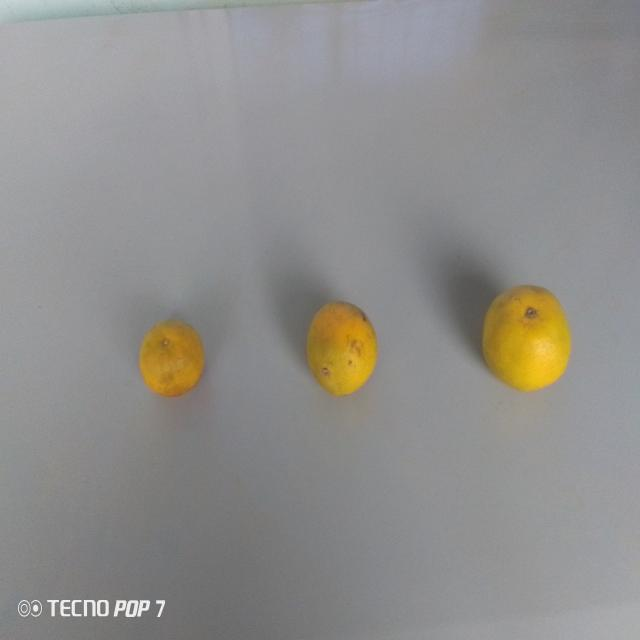Ripe orange: (478, 275, 574, 396), (305, 299, 382, 399), (137, 310, 208, 400)
